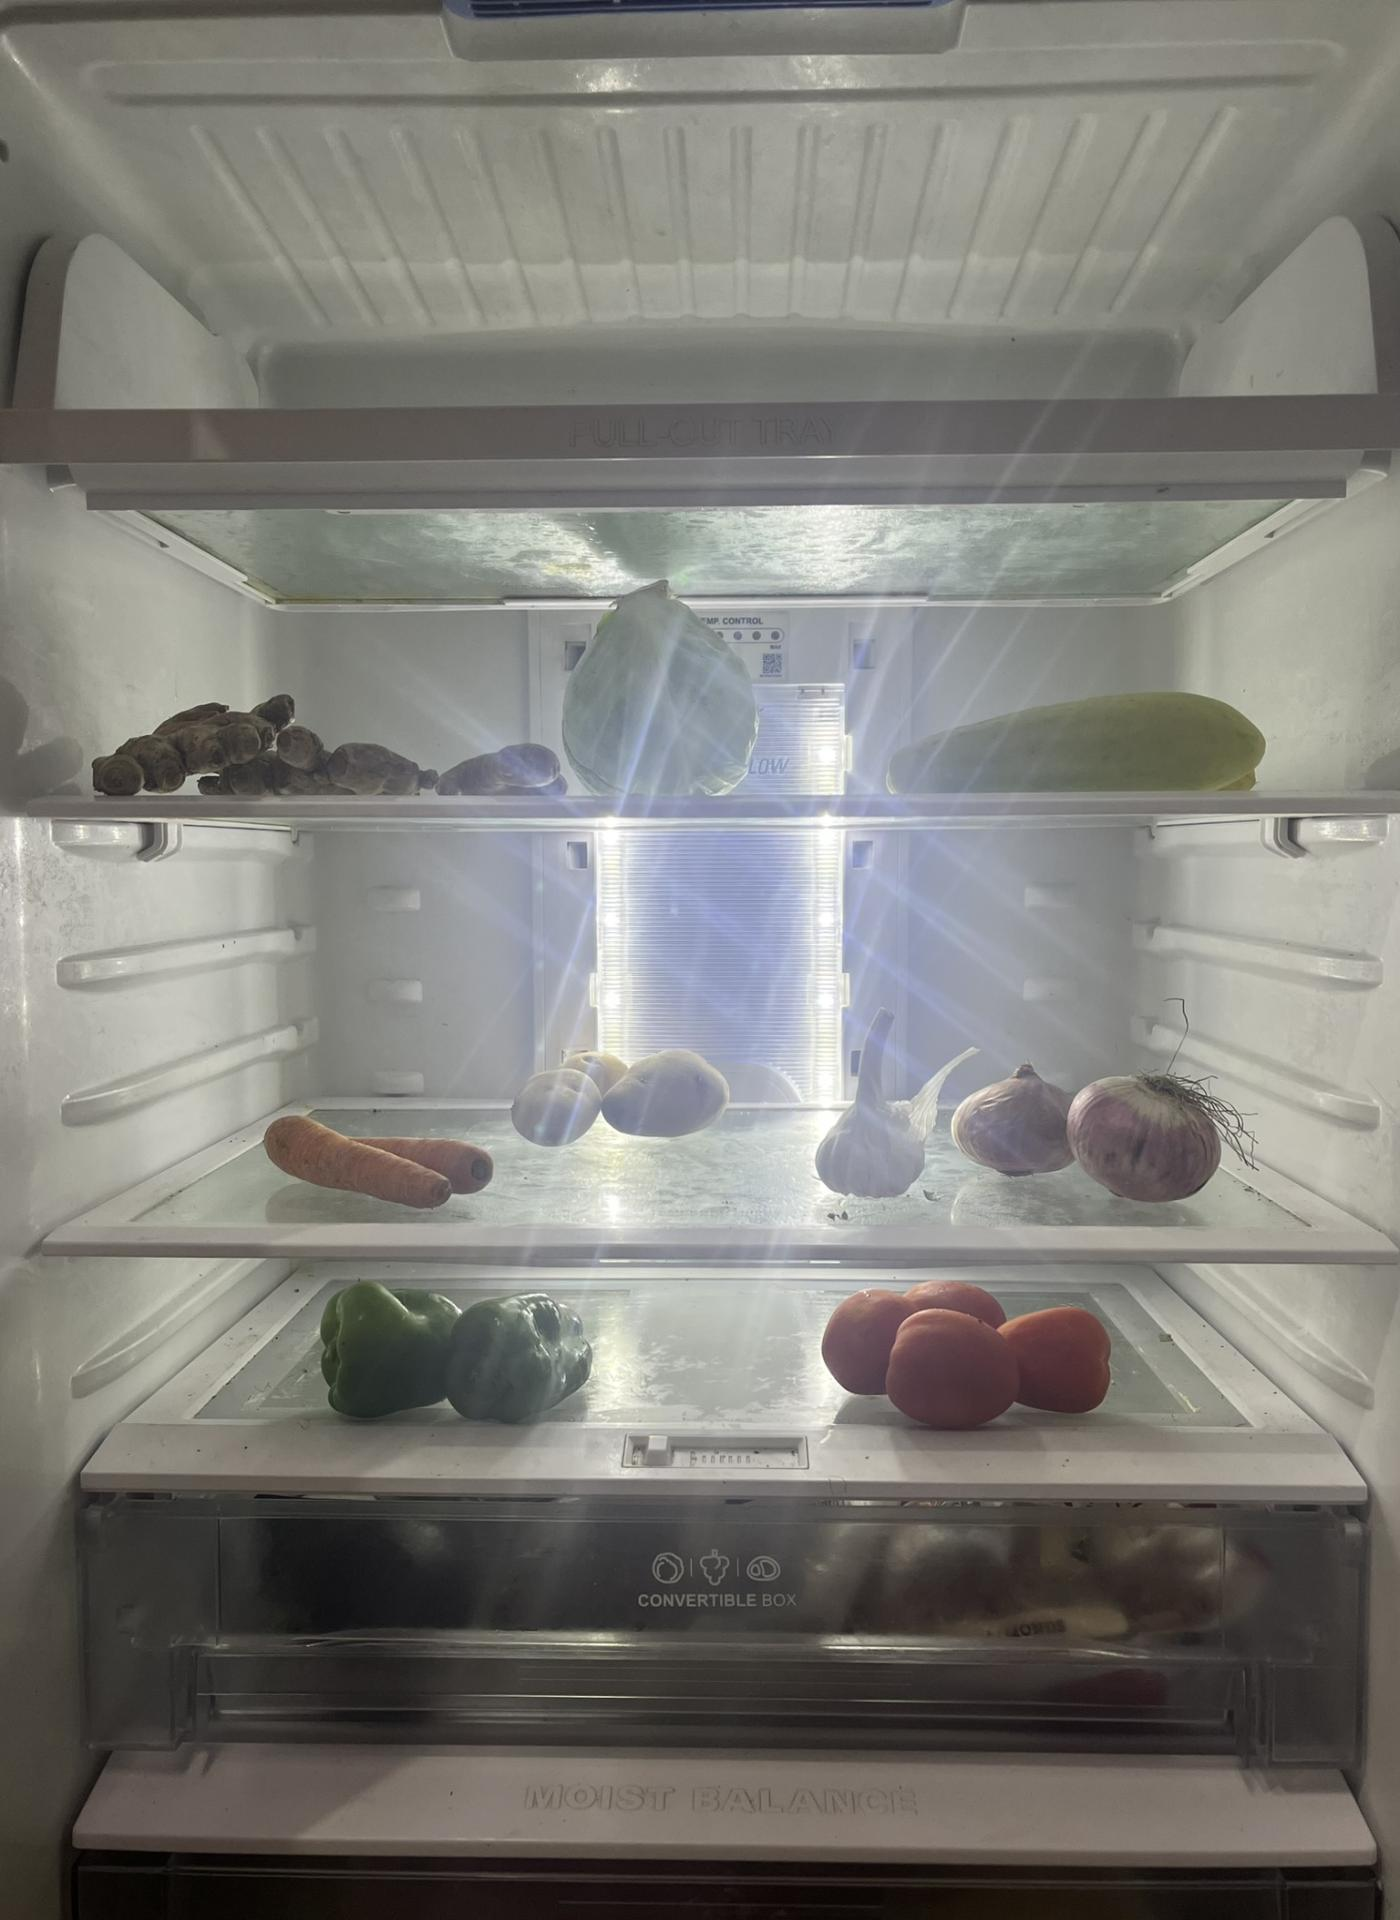cabbage: (571, 568, 760, 811)
capsicum: (321, 1267, 599, 1415)
carrots: (265, 1103, 485, 1212)
cucumber: (877, 686, 1267, 796)
garlic: (819, 1024, 927, 1193)
ginger: (92, 695, 553, 796)
onion: (968, 1061, 1229, 1203)
potato: (507, 1033, 714, 1143)
tomato: (822, 1267, 1115, 1434)
